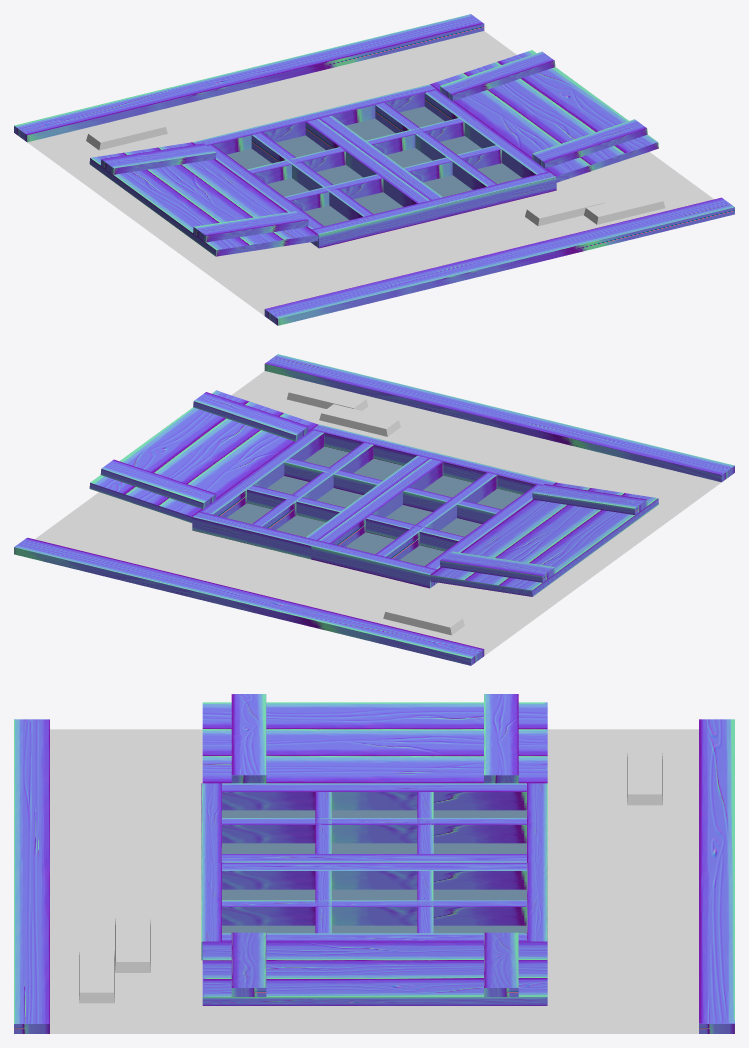
Rendered from SM_WIndow_C.fbx.
3 views of the same model, one above another, from view 1: azimuth 30°, elevation 25°; view 2: azimuth 150°, elevation 25°; view 3: azimuth 270°, elevation 25° (orthographic). The views are drawn at different scales.
Visible parts, largest first — view 1: SM_Window_C; view 2: SM_Window_C; view 3: SM_Window_C.
Boxes of the visible parts, <box> form: SM_Window_C: <box>14,14,734,325</box>; SM_Window_C: <box>14,354,734,665</box>; SM_Window_C: <box>14,694,734,1033</box>.
Bounding box in the file's own units: 200 × 12.39 × 200.
